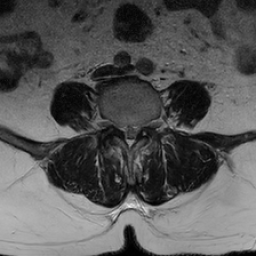CCS_normal: (125, 117, 133, 152)
LFS_stenosis: (142, 114, 150, 134)
LLS_stenosis: (134, 117, 141, 144)
RFS_stenosis: (110, 114, 118, 136)
RLS_severe_stenosis: (118, 117, 125, 141)
